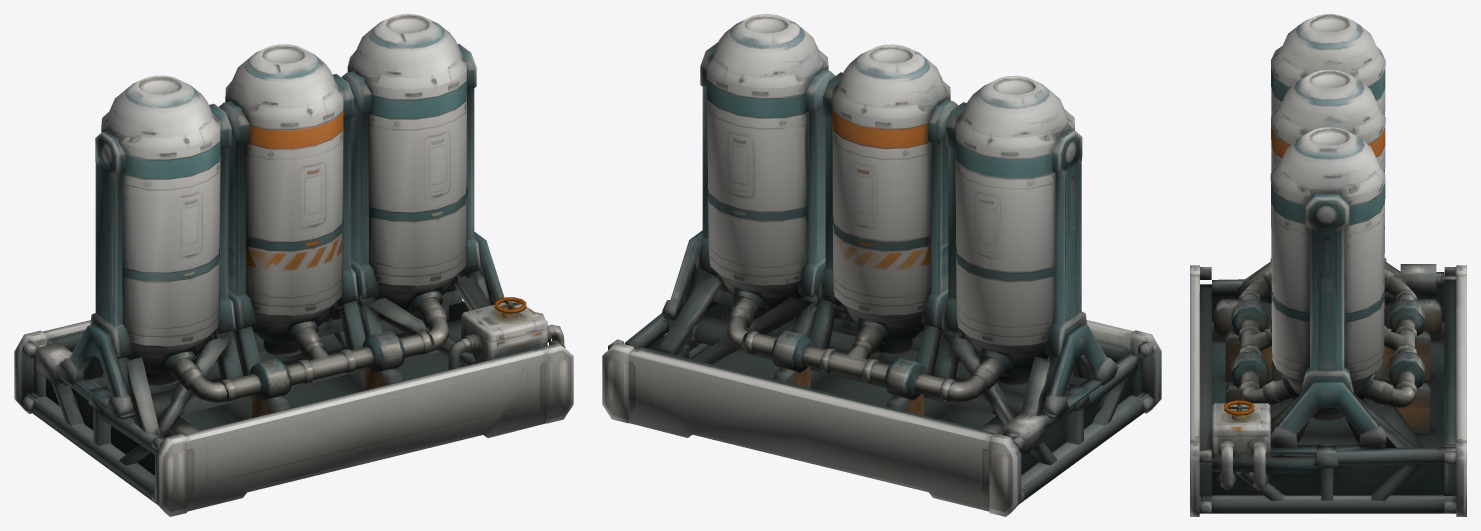
The model's file is basis_treibstofftank_01.glb.
3 renders of one model, left to right at view 1: azimuth 30°, elevation 25°; view 2: azimuth 150°, elevation 25°; view 3: azimuth 270°, elevation 25°, orthographic. The views are drawn at different scales.
Parts seen in each view (by area): view 1: tripo_node_789bed70-38bf-43be-8380-a611669a5297; view 2: tripo_node_789bed70-38bf-43be-8380-a611669a5297; view 3: tripo_node_789bed70-38bf-43be-8380-a611669a5297.
Part boxes in pixels (x1,y1,x2,y2): tripo_node_789bed70-38bf-43be-8380-a611669a5297: (14, 14, 573, 516); tripo_node_789bed70-38bf-43be-8380-a611669a5297: (602, 14, 1161, 516); tripo_node_789bed70-38bf-43be-8380-a611669a5297: (1190, 14, 1466, 516).
Bounding box in the file's own units: 0.9995 × 0.8208 × 0.5981.
Materials: 1 (1 with a texture image).
